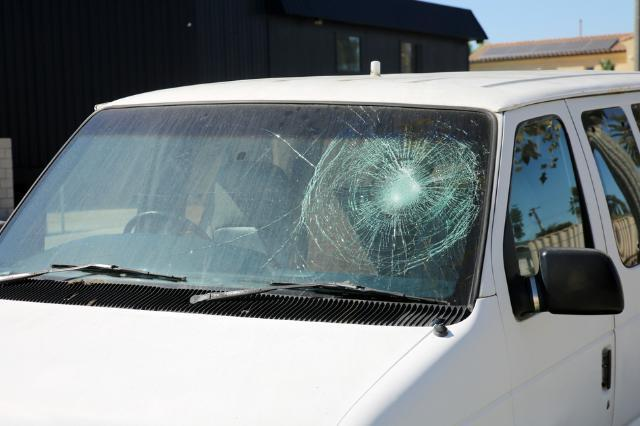Windshield: (0, 106, 493, 307)
